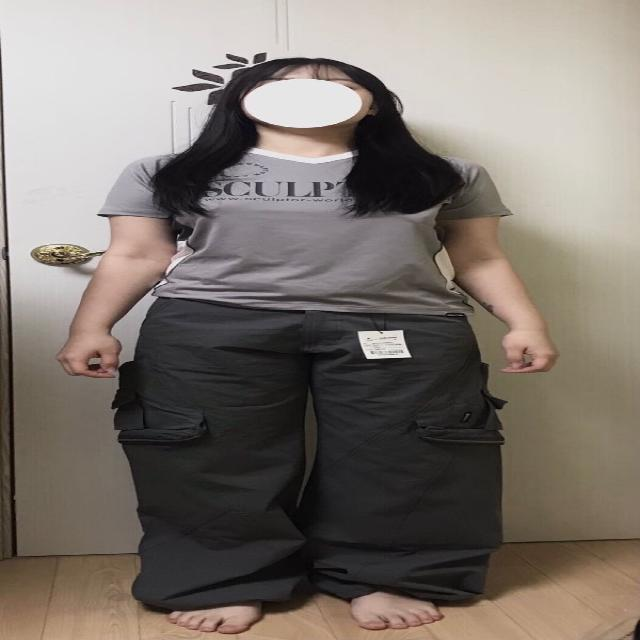cottonpants: (110, 302, 500, 616)
shortsleeve: (94, 140, 510, 309)
